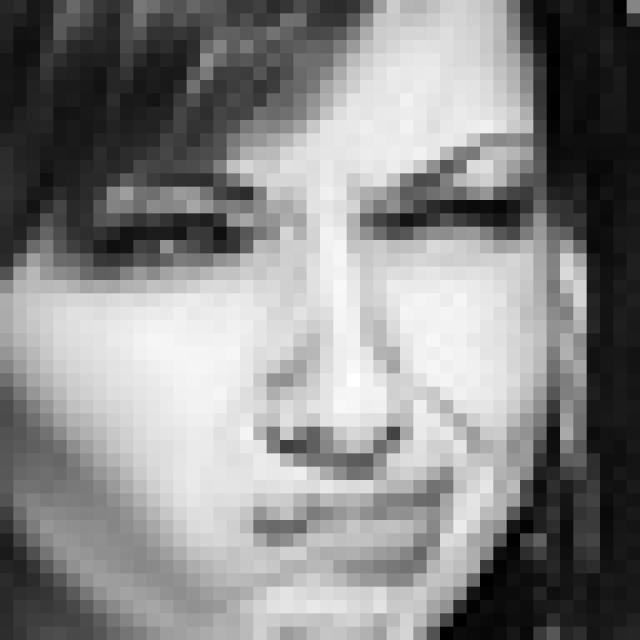disgust: (78, 123, 540, 600)
